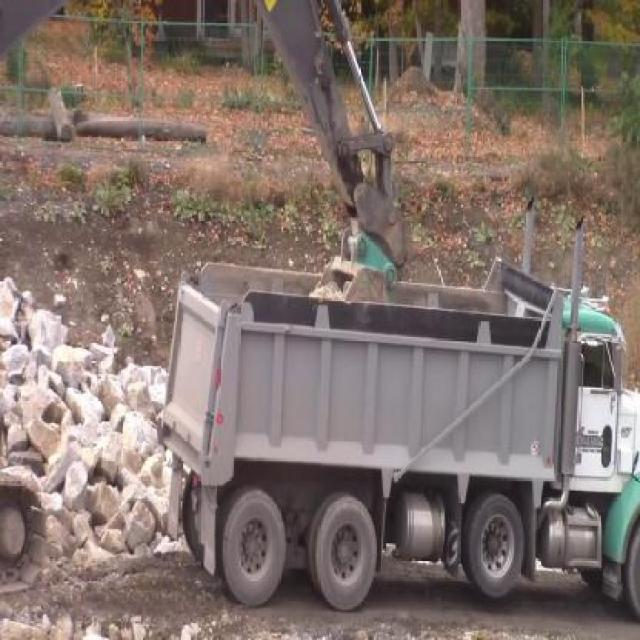dump_truck: (146, 257, 637, 626)
